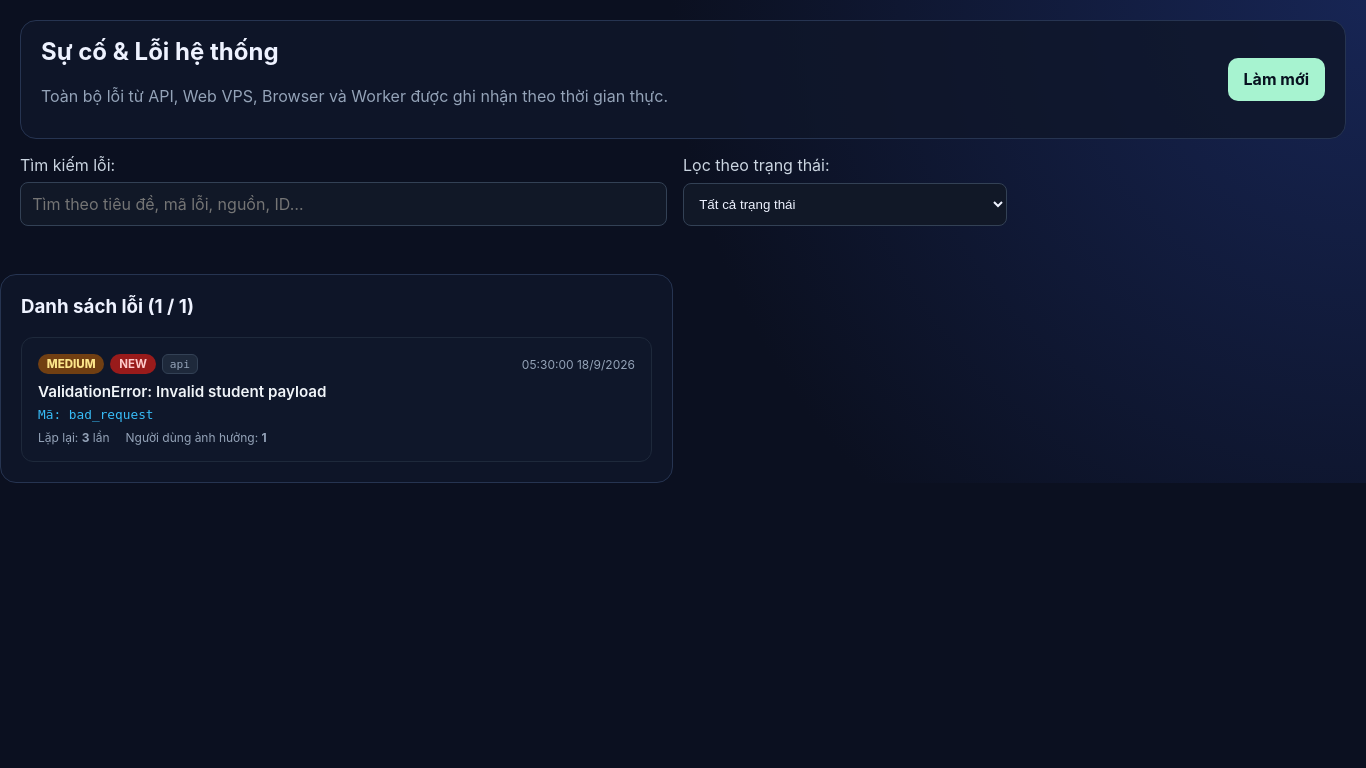
IssuesPage › renders issues list and loads issue detail on selection
Expected: the heading "Sự cố & Lỗi hệ thống" is shown, [41,37,279,66]
Expected: the text "3" is shown, [82,430,89,445]
Note: Click on issue to load detail
Click the heading "ValidationError: Invalid student payload": [182, 392] box [38,382,326,401]
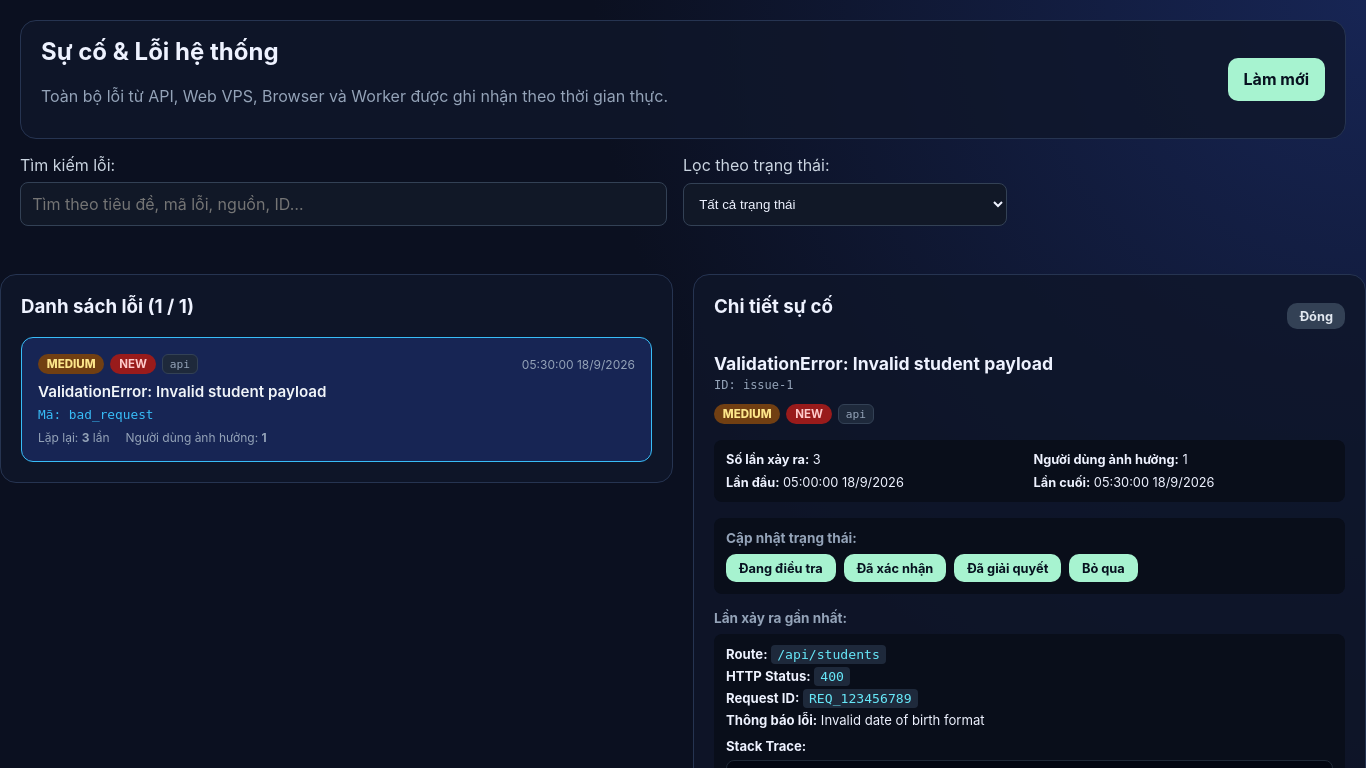
Expected: the text "REQ_123456789" is shown, [803,689,918,708]
Expected: the text "Invalid date of birth format" is shown, [821,712,985,728]
Expected: the button "Đang điều tra" is shown, [726,554,836,582]
